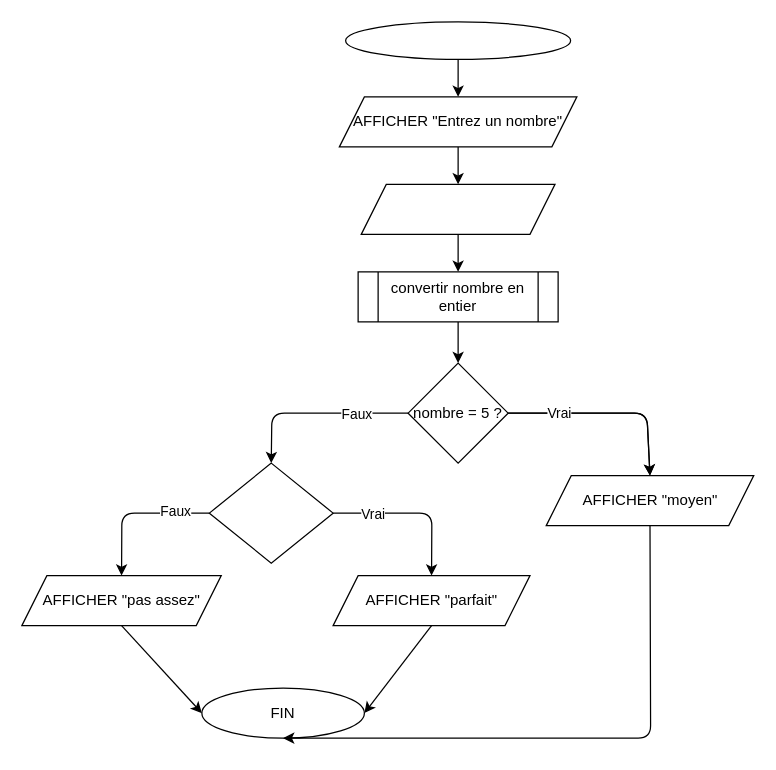
The diagram is 776 pixels wide and 770 high, and some of its shapes have lost their labels. Here are the shapes that lost their labels. From the top down, the centre of each, then its label:
At (457,40): "DÉBUT".
At (457,208): "LIRE nombre".
At (270,512): "nombre > 5 ?".
